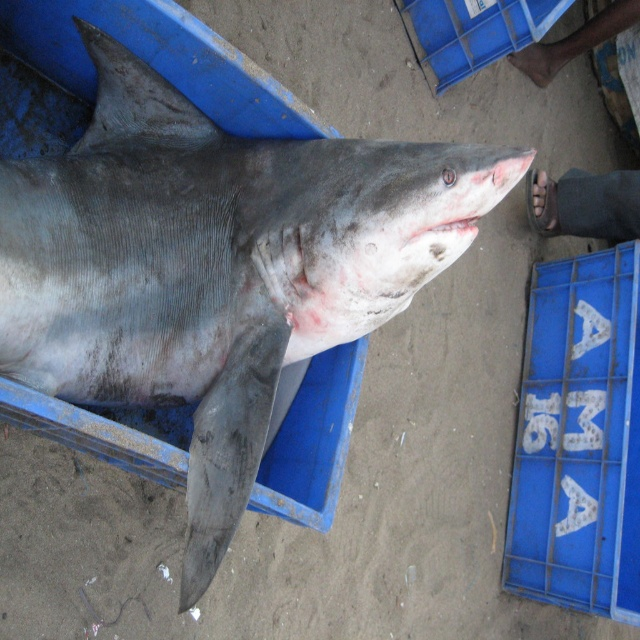Shark: (0, 25, 535, 611)
